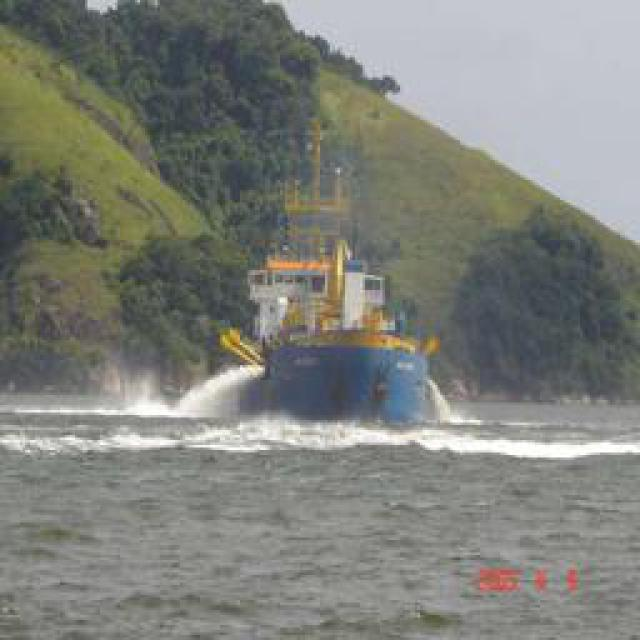Ship: (195, 160, 455, 431)
